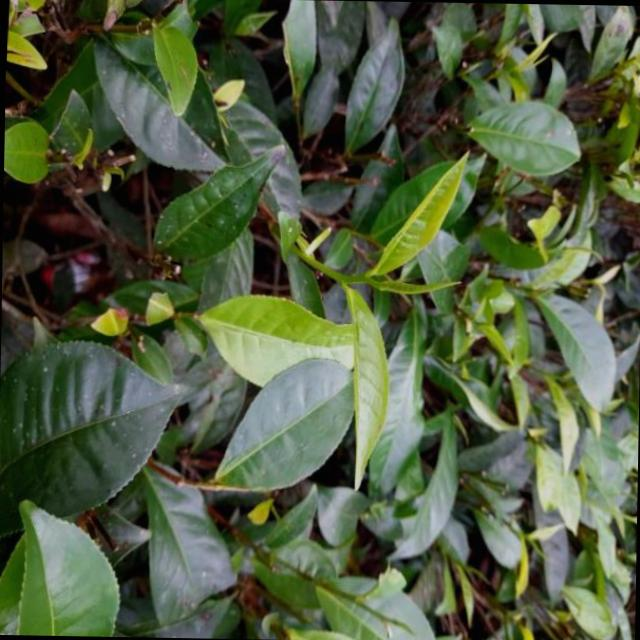Stem: (358, 274, 367, 282)
